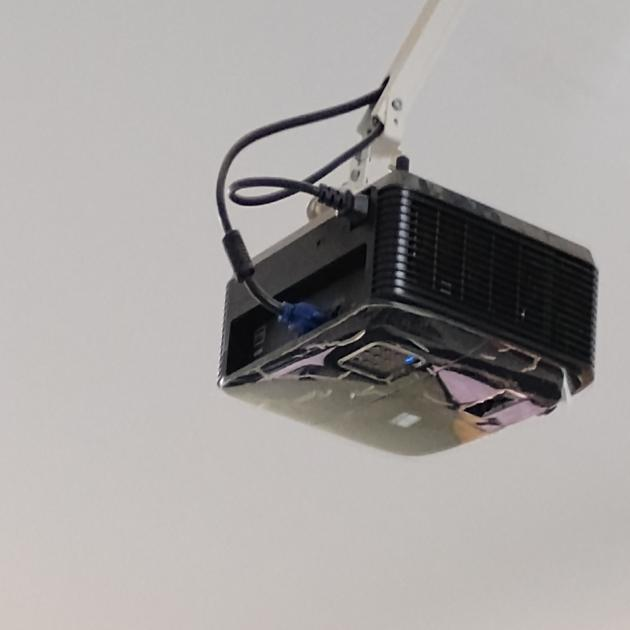projector: (159, 19, 630, 612)
